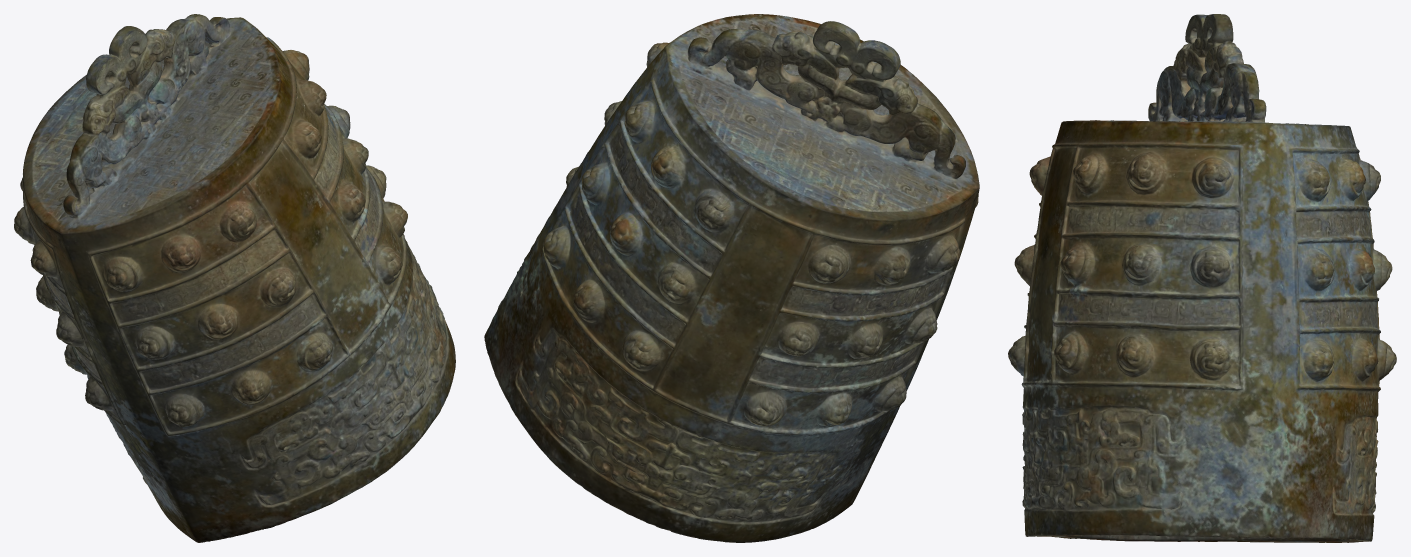
Rendered from user-original-chime-high.glb.
3 views of the same model, side by side, from view 1: azimuth 30°, elevation 25°; view 2: azimuth 150°, elevation 25°; view 3: azimuth 270°, elevation 25° (orthographic). The views are drawn at different scales.
Visible parts, largest first — view 1: Original bronze bell; view 2: Original bronze bell; view 3: Original bronze bell.
Boxes of the visible parts, <box> form: Original bronze bell: <box>14,14,455,542</box>; Original bronze bell: <box>484,14,979,542</box>; Original bronze bell: <box>1008,14,1396,542</box>.
Bounding box in the file's own units: 6.07 × 6.91 × 4.75.
1 material, 1 textured.
